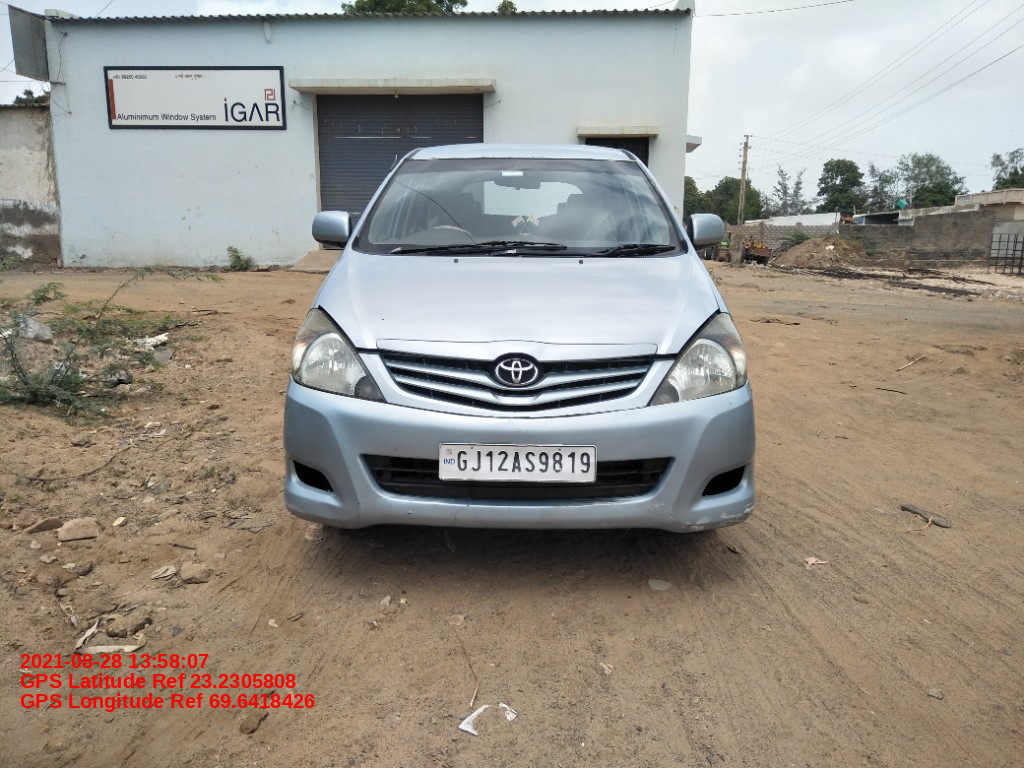Cracked: (403, 507, 423, 519)
Scratched: (683, 516, 712, 536), (719, 512, 749, 528), (451, 504, 471, 525), (638, 502, 668, 512), (738, 503, 757, 514), (353, 499, 366, 507)
